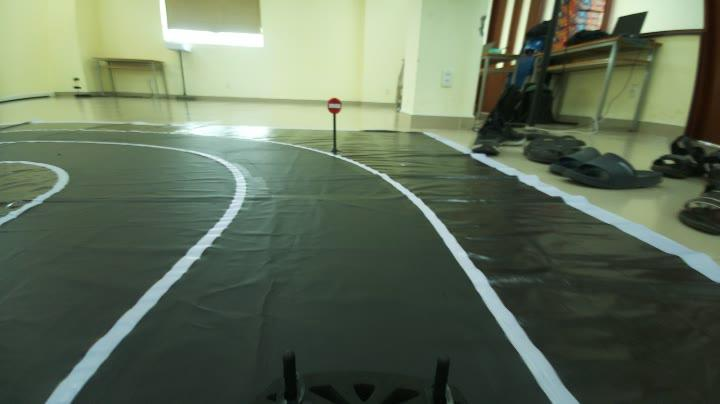no_entry: (321, 94, 346, 118)
